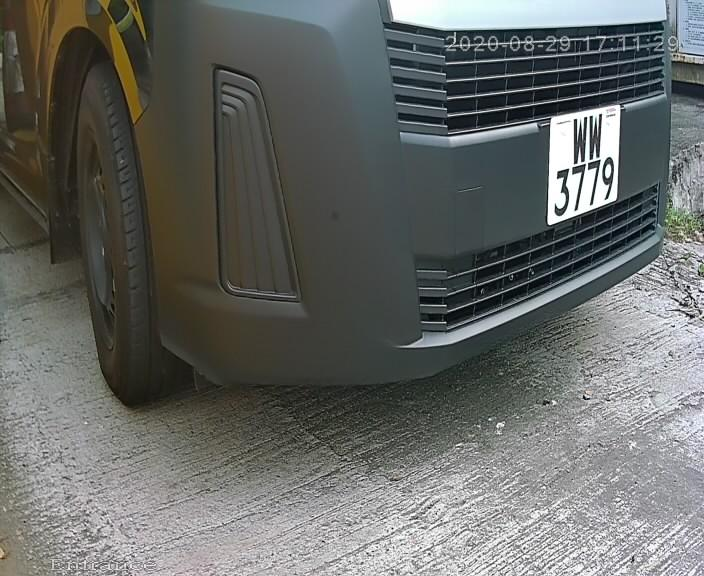License Plate: (535, 93, 626, 232)
